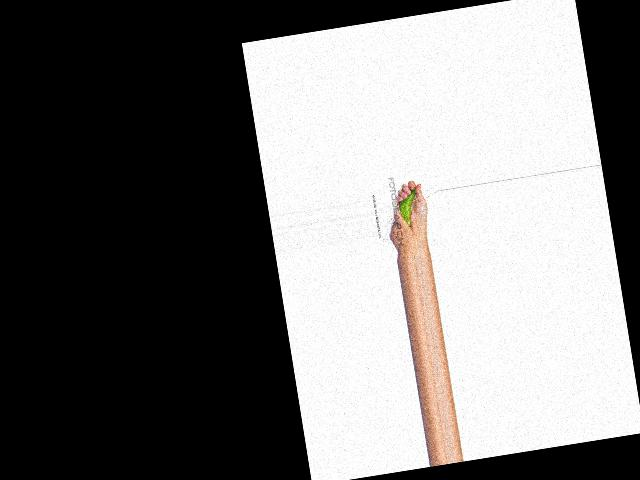cucumber: (395, 187, 421, 229)
